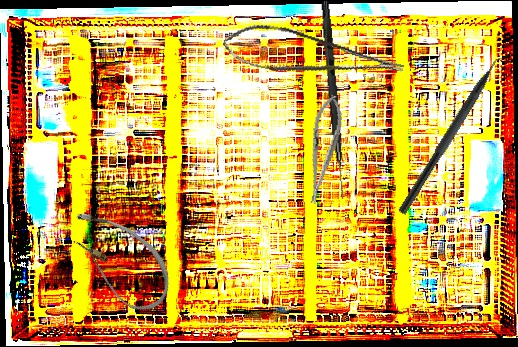Cannula: (51, 199, 186, 321)
Chopper: (397, 41, 518, 223)
Hook Surgical: (318, 1, 350, 199)
Micro Scissor: (219, 12, 406, 106)
Needle Holder: (299, 92, 347, 207)
